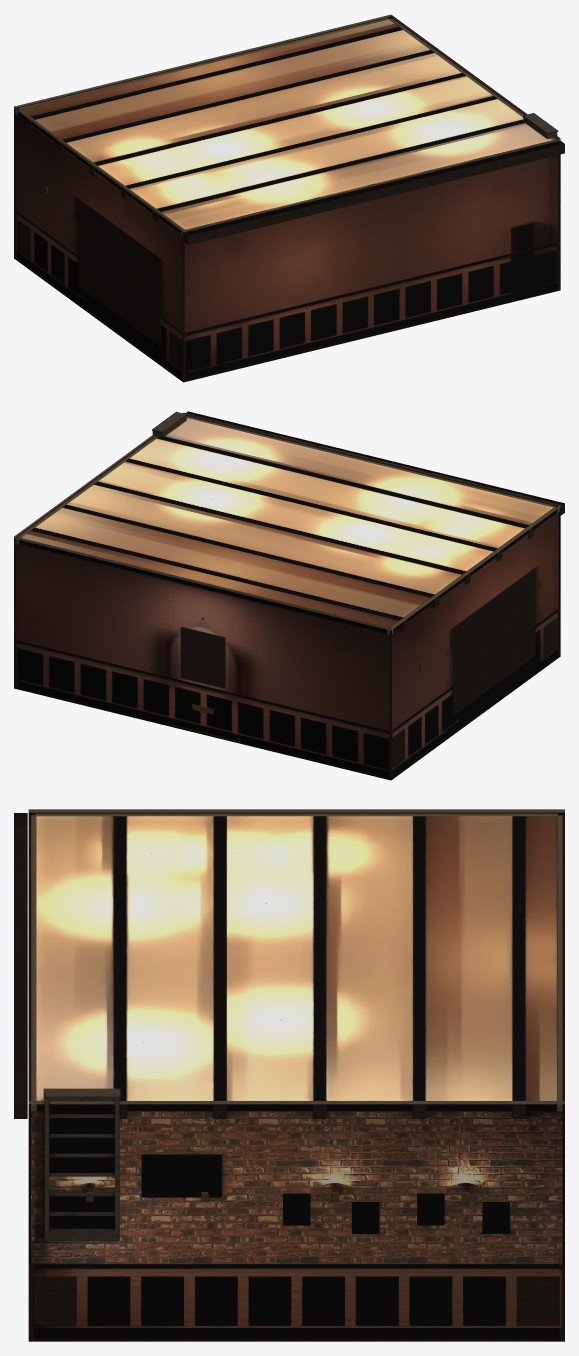
Rendered from pub2.glb.
3 renders of one model, top to bottom at view 1: azimuth 30°, elevation 25°; view 2: azimuth 150°, elevation 25°; view 3: azimuth 270°, elevation 25°, orthographic. The views are drawn at different scales.
Parts seen in each view (by area): view 1: bake_ceil, bake_wallB, bake_wallL, bake_bar, bake_wallF, bake_wallR, bake_floor, bake_props; view 2: bake_ceil, bake_wallF, bake_wallL, bake_bar, bake_board, bake_wallB, bake_wallR, bake_floor, bake_props; view 3: bake_ceil, bake_wallR, bake_wallB, bake_props, bake_wallF, bake_wallL, bake_floor.
Part boxes in pixels (left/top/right/bottom): bake_ceil: left=14, top=14, right=564, bottom=245; bake_wallB: left=169, top=139, right=558, bottom=380; bake_wallL: left=16, top=109, right=187, bottom=381; bake_bar: left=77, top=198, right=160, bottom=345; bake_wallF: left=14, top=16, right=391, bottom=259; bake_wallR: left=389, top=17, right=560, bottom=290; bake_floor: left=14, top=258, right=560, bottom=382; bake_props: left=45, top=113, right=558, bottom=194; bake_ceil: left=14, top=411, right=564, bottom=630; bake_wallF: left=16, top=537, right=404, bottom=779; bake_wallL: left=387, top=507, right=558, bottom=779; bake_bar: left=452, top=568, right=535, bottom=715; bake_board: left=180, top=626, right=225, bottom=714; bake_wallB: left=186, top=415, right=560, bottom=657; bake_wallR: left=14, top=435, right=158, bottom=688; bake_floor: left=14, top=656, right=560, bottom=780; bake_props: left=152, top=411, right=423, bottom=670; bake_ceil: left=14, top=809, right=564, bottom=1118; bake_wallR: left=31, top=1104, right=562, bottom=1339; bake_wallB: left=28, top=812, right=76, bottom=1339; bake_props: left=43, top=853, right=469, bottom=1240; bake_wallF: left=516, top=812, right=564, bottom=1339; bake_wallL: left=31, top=812, right=562, bottom=816; bake_floor: left=28, top=1340, right=564, bottom=1341.
Size of the model in its own units: 9.06 by 3.55 by 7.19.
11 materials, 11 textured.
